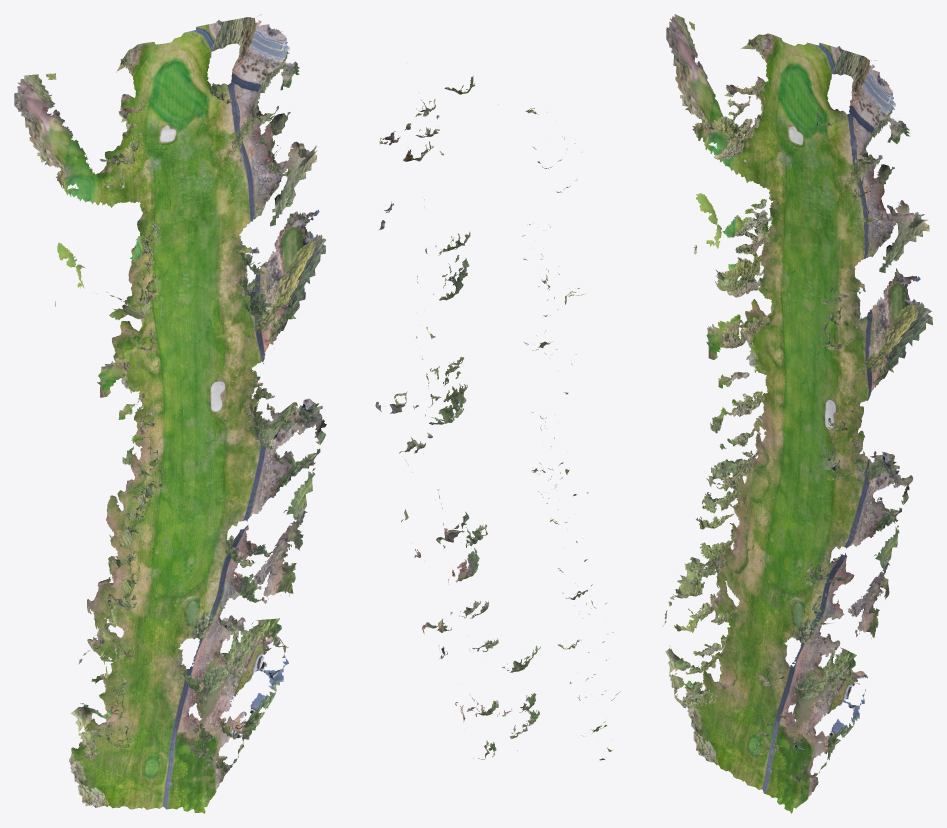
3 renders of one model, left to right at view 1: azimuth 30°, elevation 25°; view 2: azimuth 150°, elevation 25°; view 3: azimuth 330°, elevation 25°, orthographic. The views are drawn at different scales.
Bounding box in the file's own units: 149 × 379 × 49.25.
23 materials, 23 textured.
